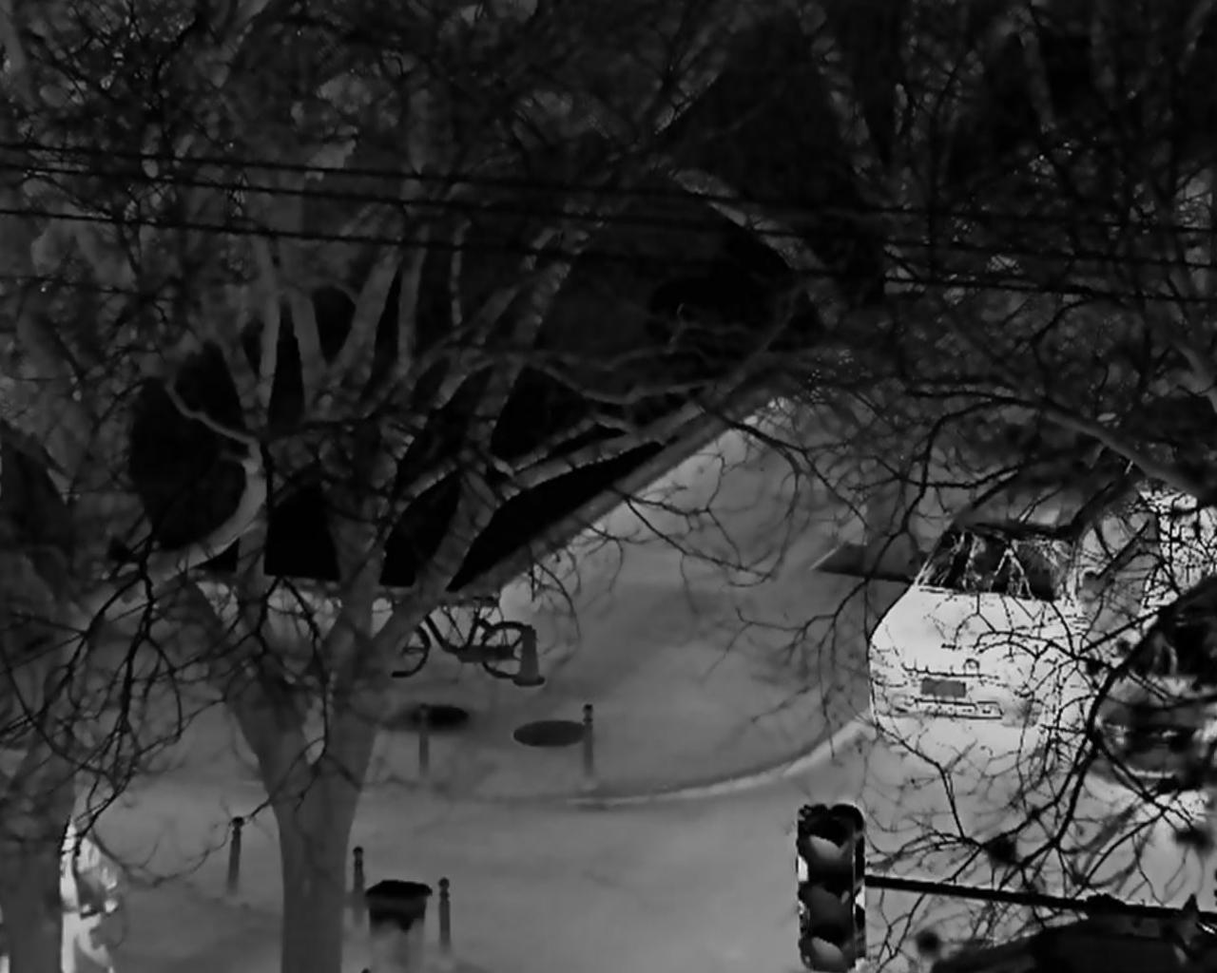person: (60, 818, 119, 973)
